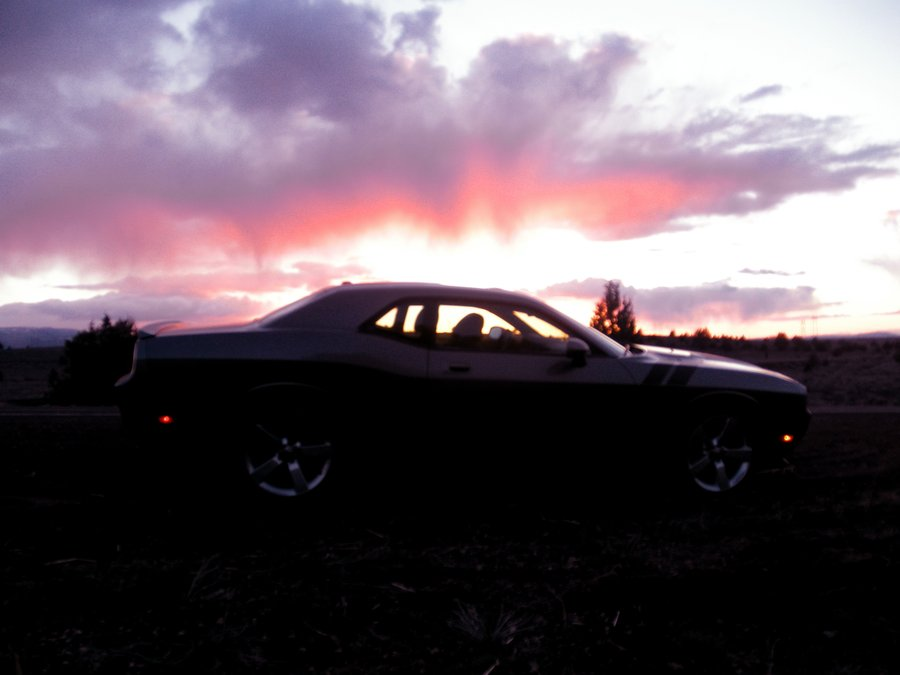car: (98, 278, 825, 521)
